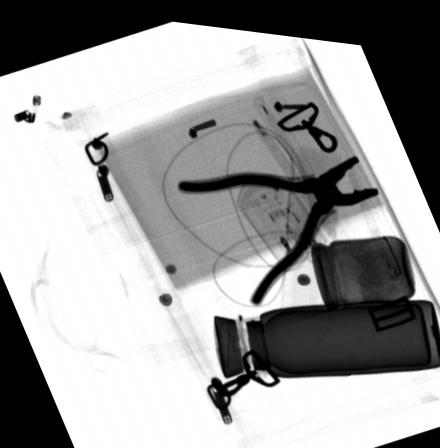Pliers: (177, 145, 380, 301)
